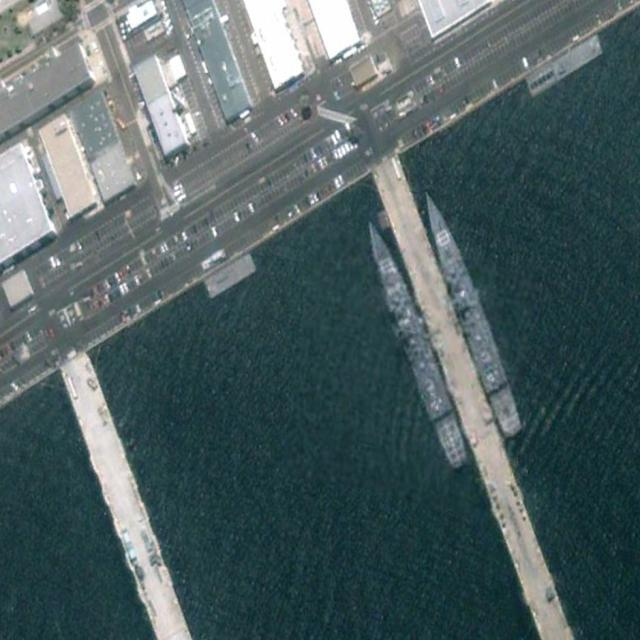Frigate: (356, 210, 472, 473), (414, 181, 525, 443)
